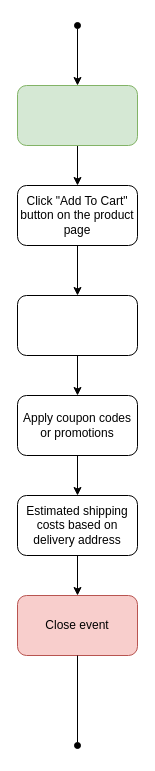
Some shapes in this 155 by 771 pixel diagram are drawn without their labels. The centre of each missing label's shape, as x and y in pixels:
Add items to cart: the point at 77,115
View the cart overview, modify quantities, remove items: the point at 77,325
